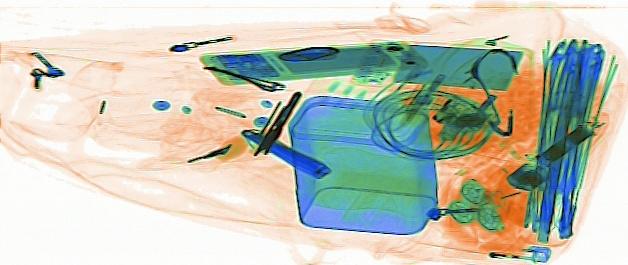lighter: (451, 239, 550, 261)
